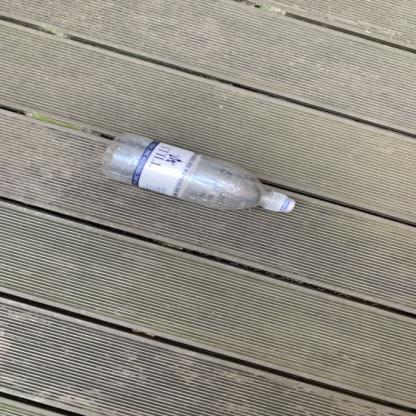trash: (97, 132, 297, 218)
